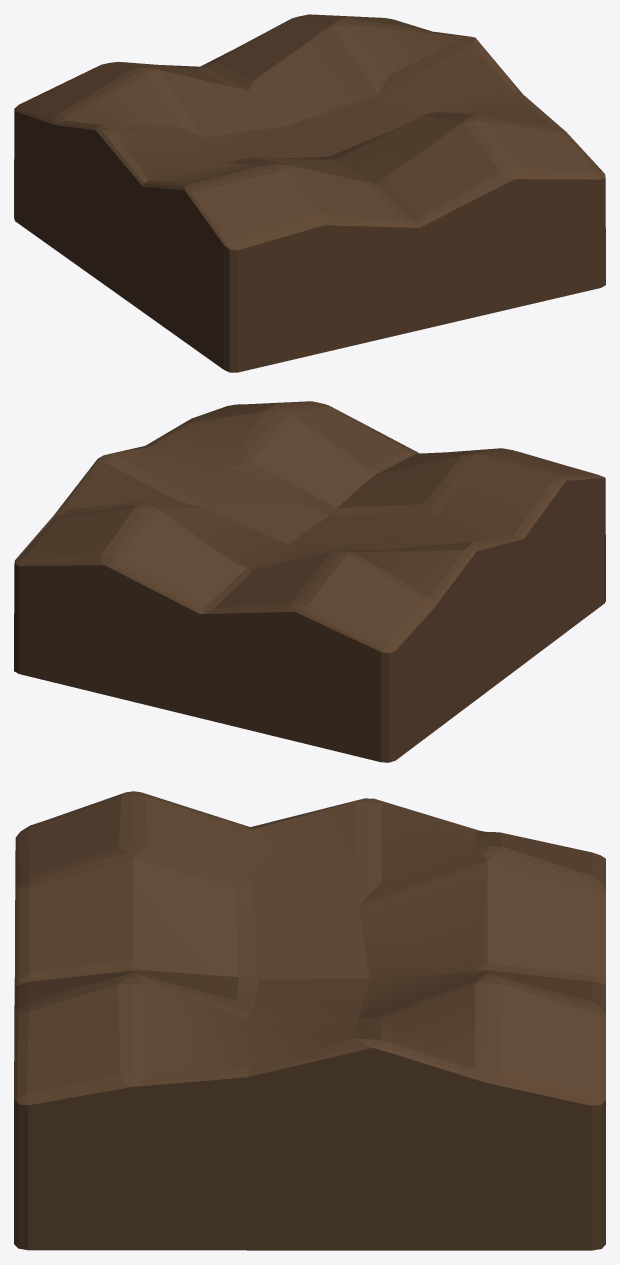
Rendered from ground-tile4.fbx.
The picture shows the model from 3 angles, top to bottom: view 1: azimuth 30°, elevation 25°; view 2: azimuth 150°, elevation 25°; view 3: azimuth 270°, elevation 25°; orthographic projection. The views are drawn at different scales.
Visible parts, largest first — view 1: grass.045; view 2: grass.045; view 3: grass.045.
Part boxes in pixels (bbox=[...]): grass.045: bbox=[14, 14, 605, 372]; grass.045: bbox=[14, 401, 605, 762]; grass.045: bbox=[14, 791, 605, 1250].
Bounding box in the file's own units: 602 × 238 × 602.
